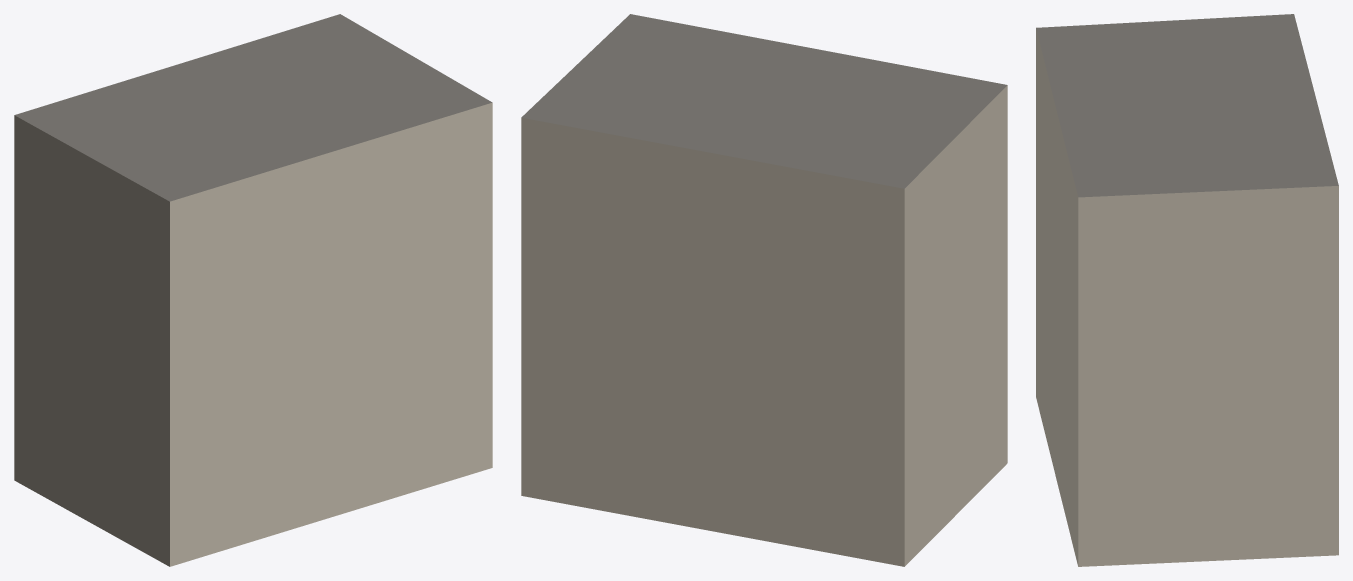
3 renders of one model, left to right at view 1: azimuth 30°, elevation 25°; view 2: azimuth 150°, elevation 25°; view 3: azimuth 270°, elevation 25°, orthographic. The views are drawn at different scales.
Visible parts, largest first — view 1: HP-w505643539; view 2: HP-w505643539; view 3: HP-w505643539.
Part boxes in pixels (bbox=[...]): HP-w505643539: bbox=[14, 14, 492, 566]; HP-w505643539: bbox=[521, 14, 1007, 566]; HP-w505643539: bbox=[1036, 14, 1338, 566].
Bounding box in the file's own units: 12.78 × 12 × 8.91.
